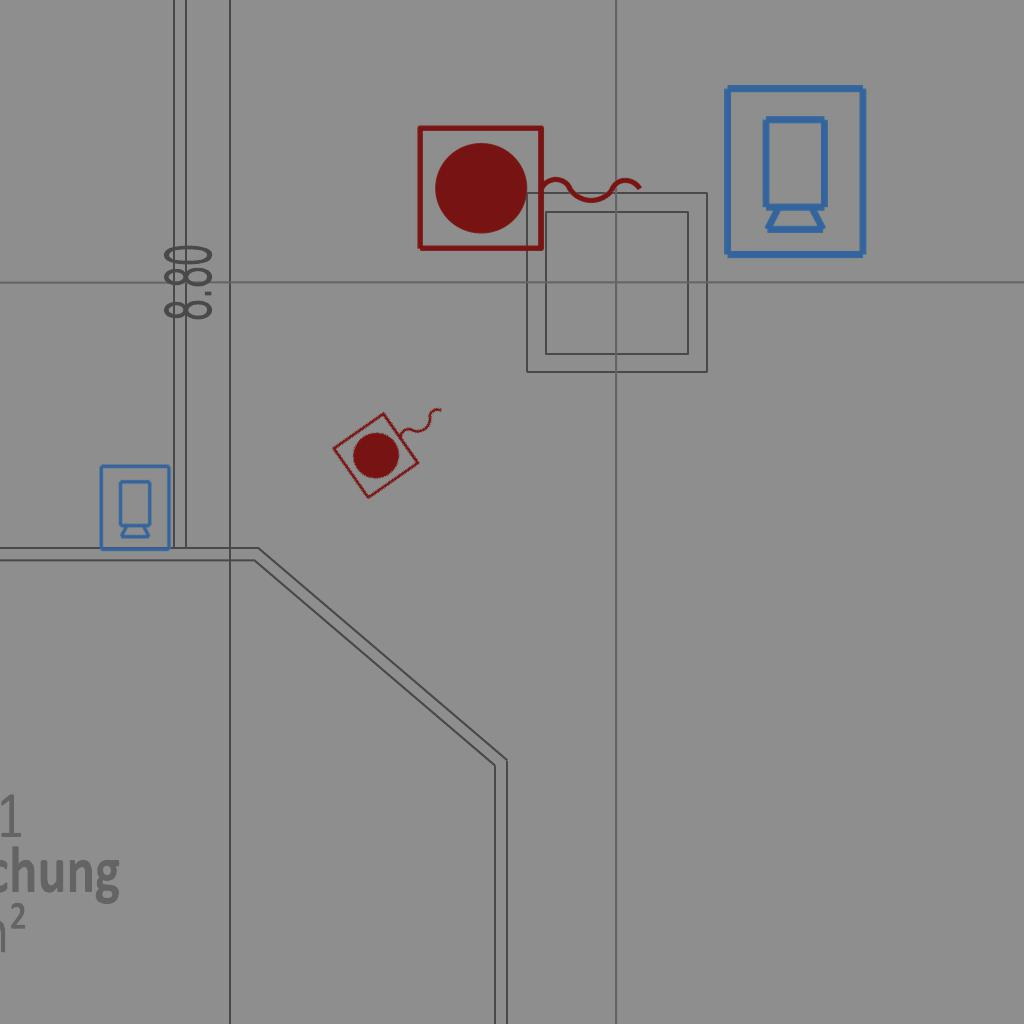KFO_Kamera_mit_Festobjektiv: (717, 80, 871, 262), (96, 462, 173, 553)
Zugtaster: (409, 118, 653, 262), (326, 377, 468, 507)
